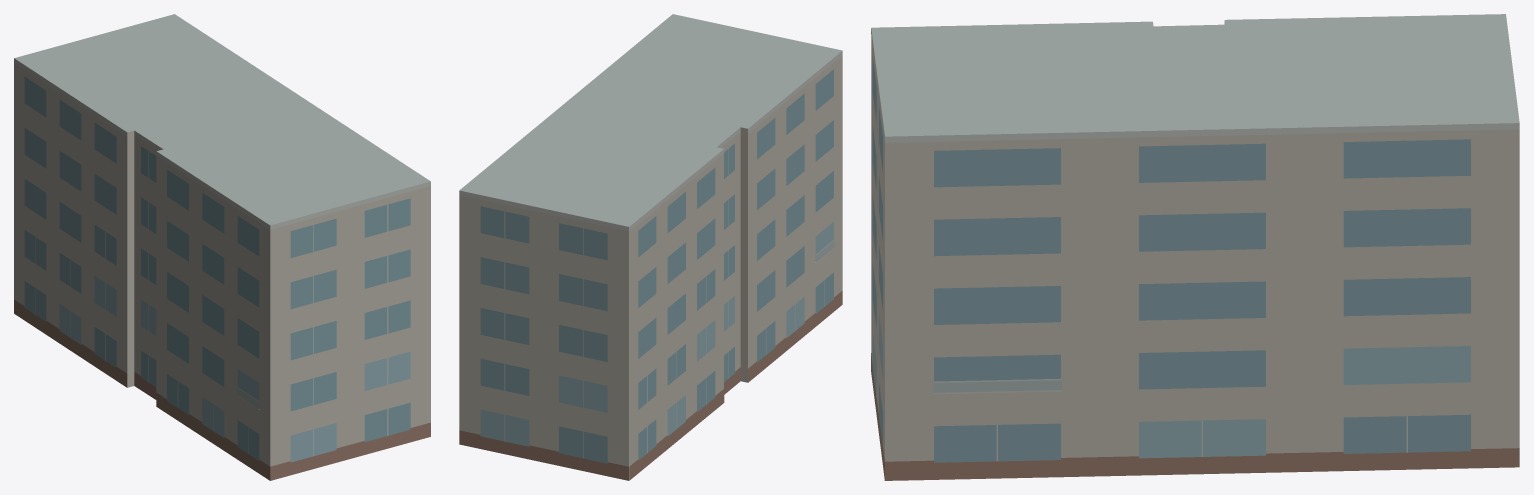
Rendered from survey-upis-32602914.glb.
3 renders of one model, left to right at view 1: azimuth 30°, elevation 25°; view 2: azimuth 150°, elevation 25°; view 3: azimuth 270°, elevation 25°, orthographic. The views are drawn at different scales.
Visible parts, largest first — view 1: survey-upis-32602914.tmp; view 2: survey-upis-32602914.tmp; view 3: survey-upis-32602914.tmp.
Part boxes in pixels (x1,y1,x2,y2): survey-upis-32602914.tmp: (14,14,430,480); survey-upis-32602914.tmp: (459,14,842,480); survey-upis-32602914.tmp: (871,14,1519,480).
Size of the model in its own units: 10.24 by 13.4 by 22.89.
